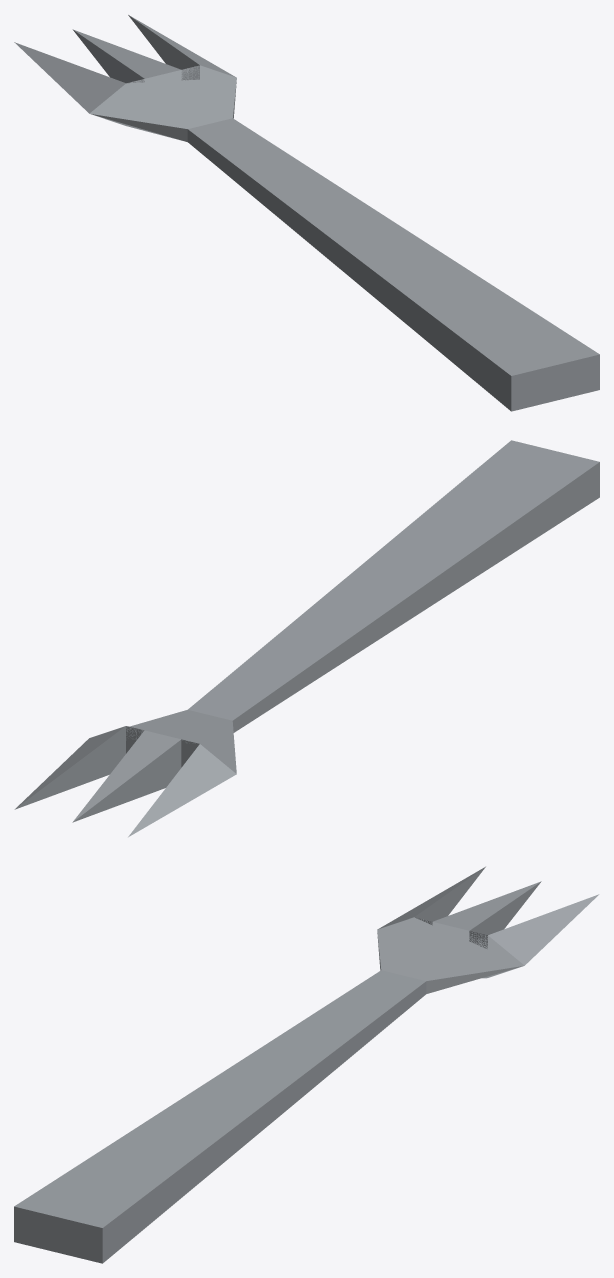
Rendered from Spoon_1.fbx.
The picture shows the model from 3 angles, top to bottom: view 1: azimuth 30°, elevation 25°; view 2: azimuth 150°, elevation 25°; view 3: azimuth 330°, elevation 25°; orthographic projection.
Parts seen in each view (by area): view 1: pCube558; view 2: pCube558; view 3: pCube558.
Boxes of the visible parts, bbox=[...] form: pCube558: bbox=[14, 15, 599, 411]; pCube558: bbox=[14, 440, 599, 837]; pCube558: bbox=[14, 866, 599, 1263].
Bounding box in the file's own units: 0.0434 × 0.012 × 0.247.
Materials: 1 (1 with a texture image).
